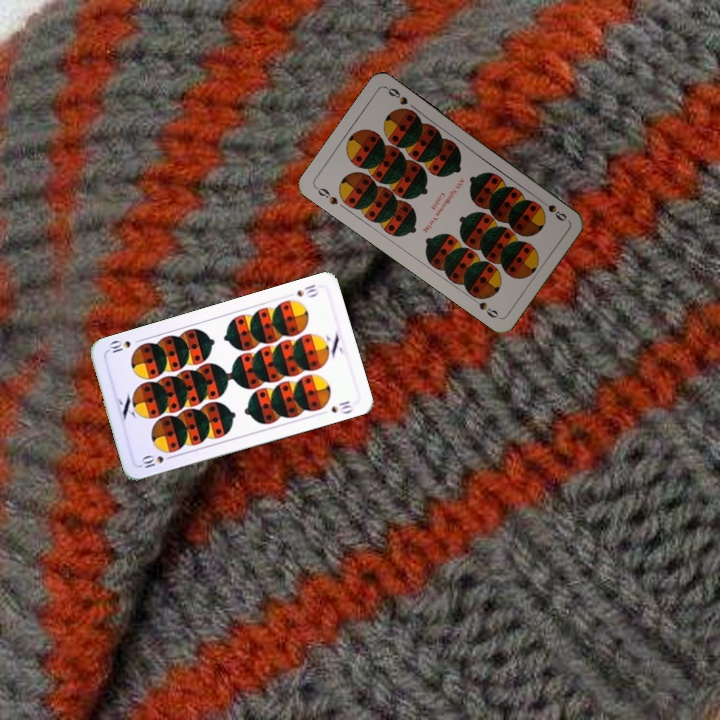S10: (137, 451, 177, 471), (292, 280, 321, 300)
S9: (542, 199, 570, 224), (311, 183, 340, 207)
